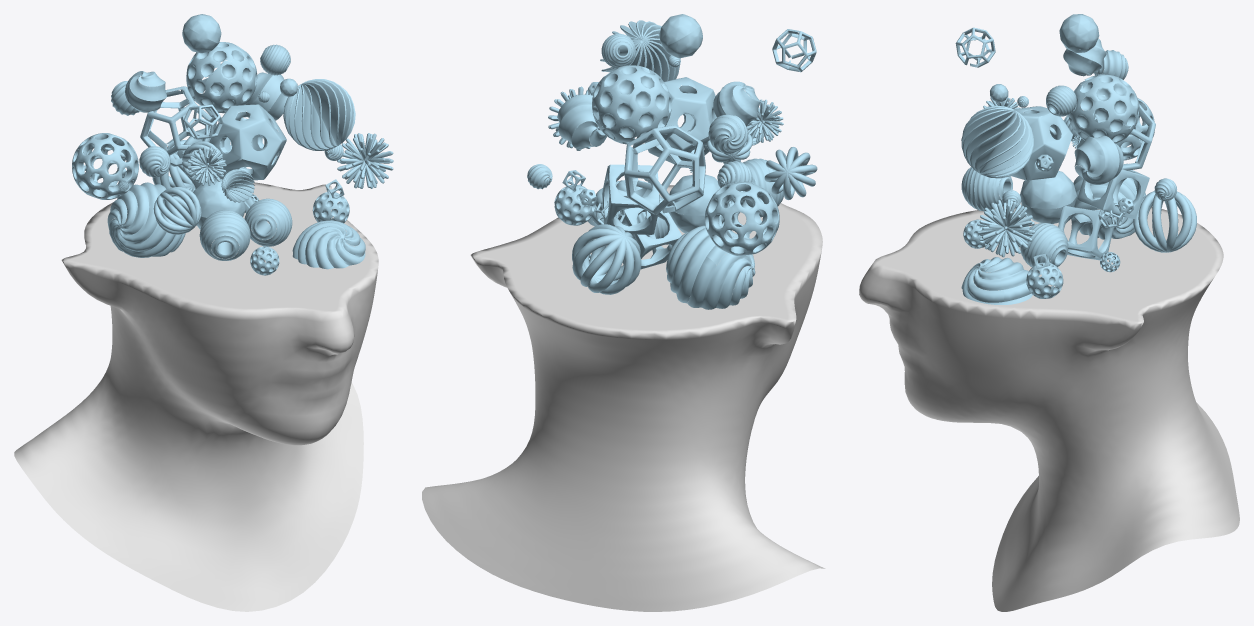
The model's file is Head-Open_03.min.glb.
3 views of the same model, side by side, from view 1: azimuth 30°, elevation 25°; view 2: azimuth 150°, elevation 25°; view 3: azimuth 270°, elevation 25° (orthographic). The views are drawn at different scales.
Parts seen in each view (by area): view 1: Bust_remesh, GSG_Doodads_Array_08_27_remesh, GSG_Doodads_Tetra_08_25_remesh, GSG_Doodads_Sphere_08_47_remesh, GSG_Doodads_Sphere_13_17_remesh, GSG_Doodads_Sphere_07_20_remesh, GSG_Doodads_Sphere_13_3_remesh, GSG_Doodads_Array_09_23_remesh, GSG_Doodads_Sphere_06_4_remesh, GSG_Doodads_Tetra_09_40_remesh, GSG_Doodads_Array_02_24_remesh, GSG_Doodads_Sphere_06_18_remesh (+13 smaller); view 2: Bust_remesh, GSG_Doodads_Sphere_13_17_remesh, GSG_Doodads_Sphere_08_47_remesh, GSG_Doodads_Sphere_07_20_remesh, GSG_Doodads_Tetra_09_40_remesh, GSG_Doodads_Array_02_38_remesh, GSG_Doodads_Tetra_08_25_remesh, GSG_Doodads_Cube_08_21_remesh, GSG_Doodads_Array_08_27_remesh, GSG_Doodads_Sphere_15_30_remesh, GSG_Doodads_Array_02_24_remesh, GSG_Doodads_Cube_08_35_remesh (+12 smaller); view 3: Bust_remesh, GSG_Doodads_Array_08_27_remesh, GSG_Doodads_Sphere_08_47_remesh, GSG_Doodads_Sphere_13_3_remesh, GSG_Doodads_Array_02_38_remesh, GSG_Doodads_Tetra_08_25_remesh, GSG_Doodads_Array_09_23_remesh, GSG_Doodads_Tetra_06_42_remesh, GSG_Doodads_Sphere_15_30_remesh, GSG_Doodads_Cube_08_35_remesh, GSG_Doodads_Cube_08_21_remesh, GSG_Doodads_Sphere_13_17_remesh (+10 smaller).
Part boxes in pixels (left/top/right/bottom): Bust_remesh: left=14, top=182, right=378, bottom=611; GSG_Doodads_Array_08_27_remesh: left=283, top=79, right=355, bottom=150; GSG_Doodads_Tetra_08_25_remesh: left=209, top=104, right=286, bottom=180; GSG_Doodads_Sphere_08_47_remesh: left=186, top=42, right=257, bottom=113; GSG_Doodads_Sphere_13_17_remesh: left=107, top=182, right=185, bottom=257; GSG_Doodads_Sphere_07_20_remesh: left=72, top=133, right=138, bottom=199; GSG_Doodads_Sphere_13_3_remesh: left=292, top=220, right=365, bottom=269; GSG_Doodads_Array_09_23_remesh: left=337, top=133, right=393, bottom=188; GSG_Doodads_Sphere_06_4_remesh: left=199, top=210, right=250, bottom=260; GSG_Doodads_Tetra_09_40_remesh: left=140, top=86, right=216, bottom=166; GSG_Doodads_Array_02_24_remesh: left=153, top=187, right=201, bottom=234; GSG_Doodads_Sphere_06_18_remesh: left=244, top=198, right=292, bottom=246; Bust_remesh: left=422, top=185, right=825, bottom=611; GSG_Doodads_Sphere_13_17_remesh: left=666, top=225, right=755, bottom=309; GSG_Doodads_Sphere_08_47_remesh: left=592, top=65, right=671, bottom=144; GSG_Doodads_Sphere_07_20_remesh: left=704, top=181, right=779, bottom=255; GSG_Doodads_Tetra_09_40_remesh: left=624, top=125, right=705, bottom=214; GSG_Doodads_Array_02_38_remesh: left=572, top=224, right=641, bottom=294; GSG_Doodads_Tetra_08_25_remesh: left=645, top=77, right=716, bottom=164; GSG_Doodads_Cube_08_21_remesh: left=602, top=164, right=659, bottom=234; GSG_Doodads_Array_08_27_remesh: left=600, top=20, right=680, bottom=81; GSG_Doodads_Sphere_15_30_remesh: left=557, top=94, right=609, bottom=149; GSG_Doodads_Array_02_24_remesh: left=764, top=147, right=817, bottom=200; GSG_Doodads_Cube_08_35_remesh: left=618, top=200, right=681, bottom=269; Bust_remesh: left=859, top=204, right=1239, bottom=611; GSG_Doodads_Array_08_27_remesh: left=961, top=105, right=1033, bottom=178; GSG_Doodads_Sphere_08_47_remesh: left=1068, top=74, right=1139, bottom=143; GSG_Doodads_Sphere_13_3_remesh: left=961, top=257, right=1032, bottom=304; GSG_Doodads_Array_02_38_remesh: left=1133, top=191, right=1196, bottom=252; GSG_Doodads_Tetra_08_25_remesh: left=1011, top=106, right=1073, bottom=180; GSG_Doodads_Array_09_23_remesh: left=977, top=199, right=1035, bottom=257; GSG_Doodads_Tetra_06_42_remesh: left=1020, top=170, right=1076, bottom=223; GSG_Doodads_Sphere_15_30_remesh: left=1074, top=135, right=1123, bottom=184; GSG_Doodads_Cube_08_35_remesh: left=1058, top=206, right=1114, bottom=260; GSG_Doodads_Cube_08_21_remesh: left=1077, top=161, right=1149, bottom=218; GSG_Doodads_Sphere_13_17_remesh: left=1073, top=175, right=1145, bottom=239.
Bounding box in the file's own units: 0.5297 × 0.8475 × 0.5122.
